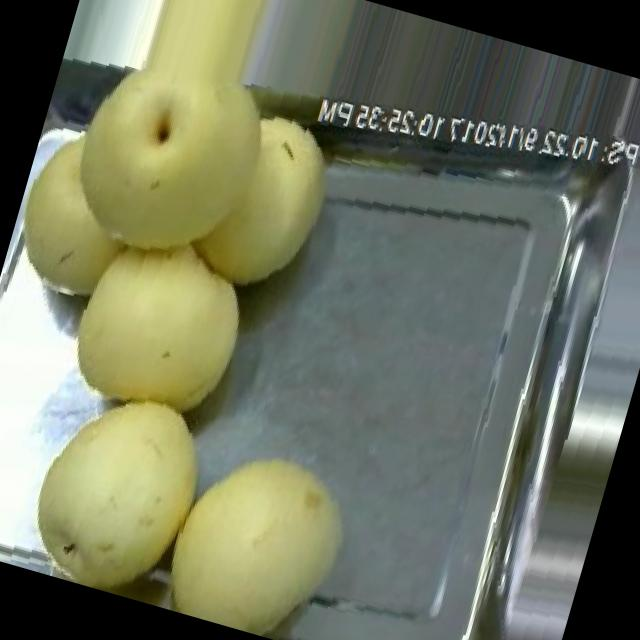Fruit: (0, 0, 382, 377), (21, 190, 284, 458), (7, 360, 242, 614), (149, 417, 379, 640)
